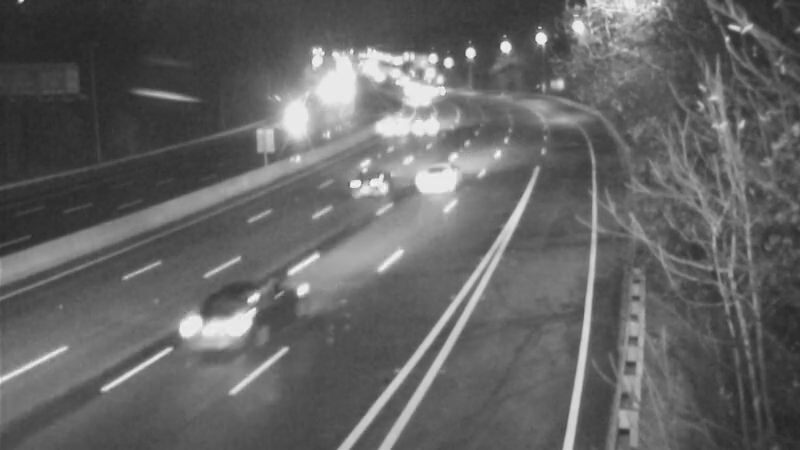vehicle: (133, 280, 243, 390), (329, 148, 409, 228), (395, 137, 475, 217), (400, 96, 450, 146), (371, 101, 421, 151), (278, 100, 328, 150)
